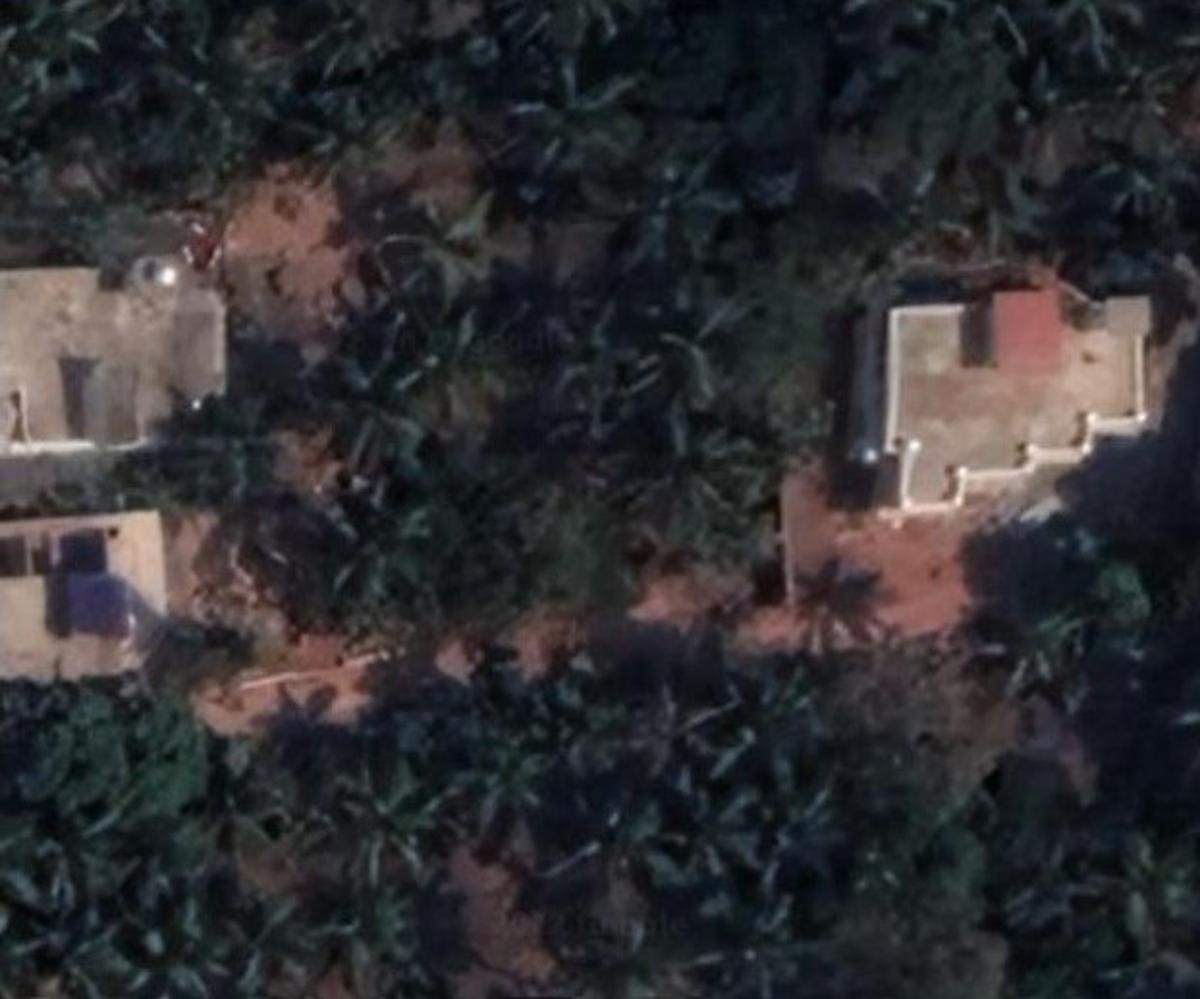coconut: (314, 314, 455, 468), (501, 55, 652, 187), (314, 474, 445, 615), (611, 397, 752, 522), (374, 189, 497, 316), (644, 781, 775, 894), (970, 592, 1091, 711), (326, 761, 441, 873)
